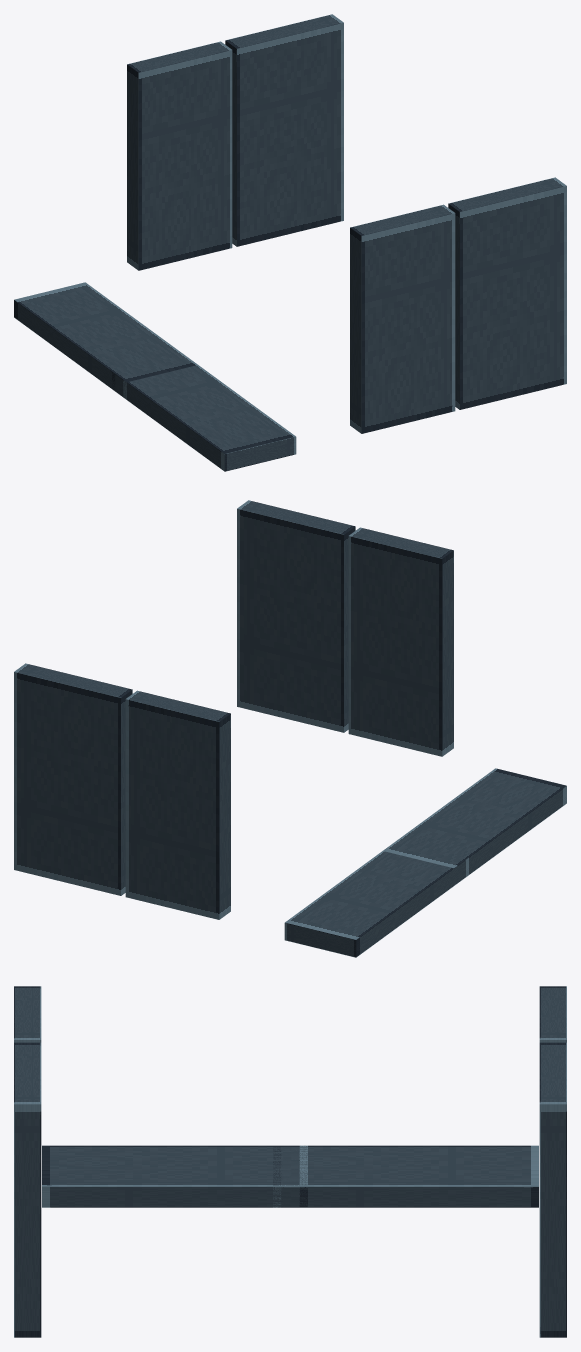
Rendered from bench_leggings_2.obj.
3 renders of one model, top to bottom at view 1: azimuth 30°, elevation 25°; view 2: azimuth 150°, elevation 25°; view 3: azimuth 270°, elevation 25°, orthographic. The views are drawn at different scales.
Parts seen in each view (by area): view 1: geometry; view 2: geometry; view 3: geometry.
Boxes of the visible parts, x1,y1,x2,y2 form: geometry: (14,14,566,471); geometry: (14,500,566,957); geometry: (14,986,566,1337).
Size of the model in its own units: 0.4039 by 0.25 by 0.4967.
